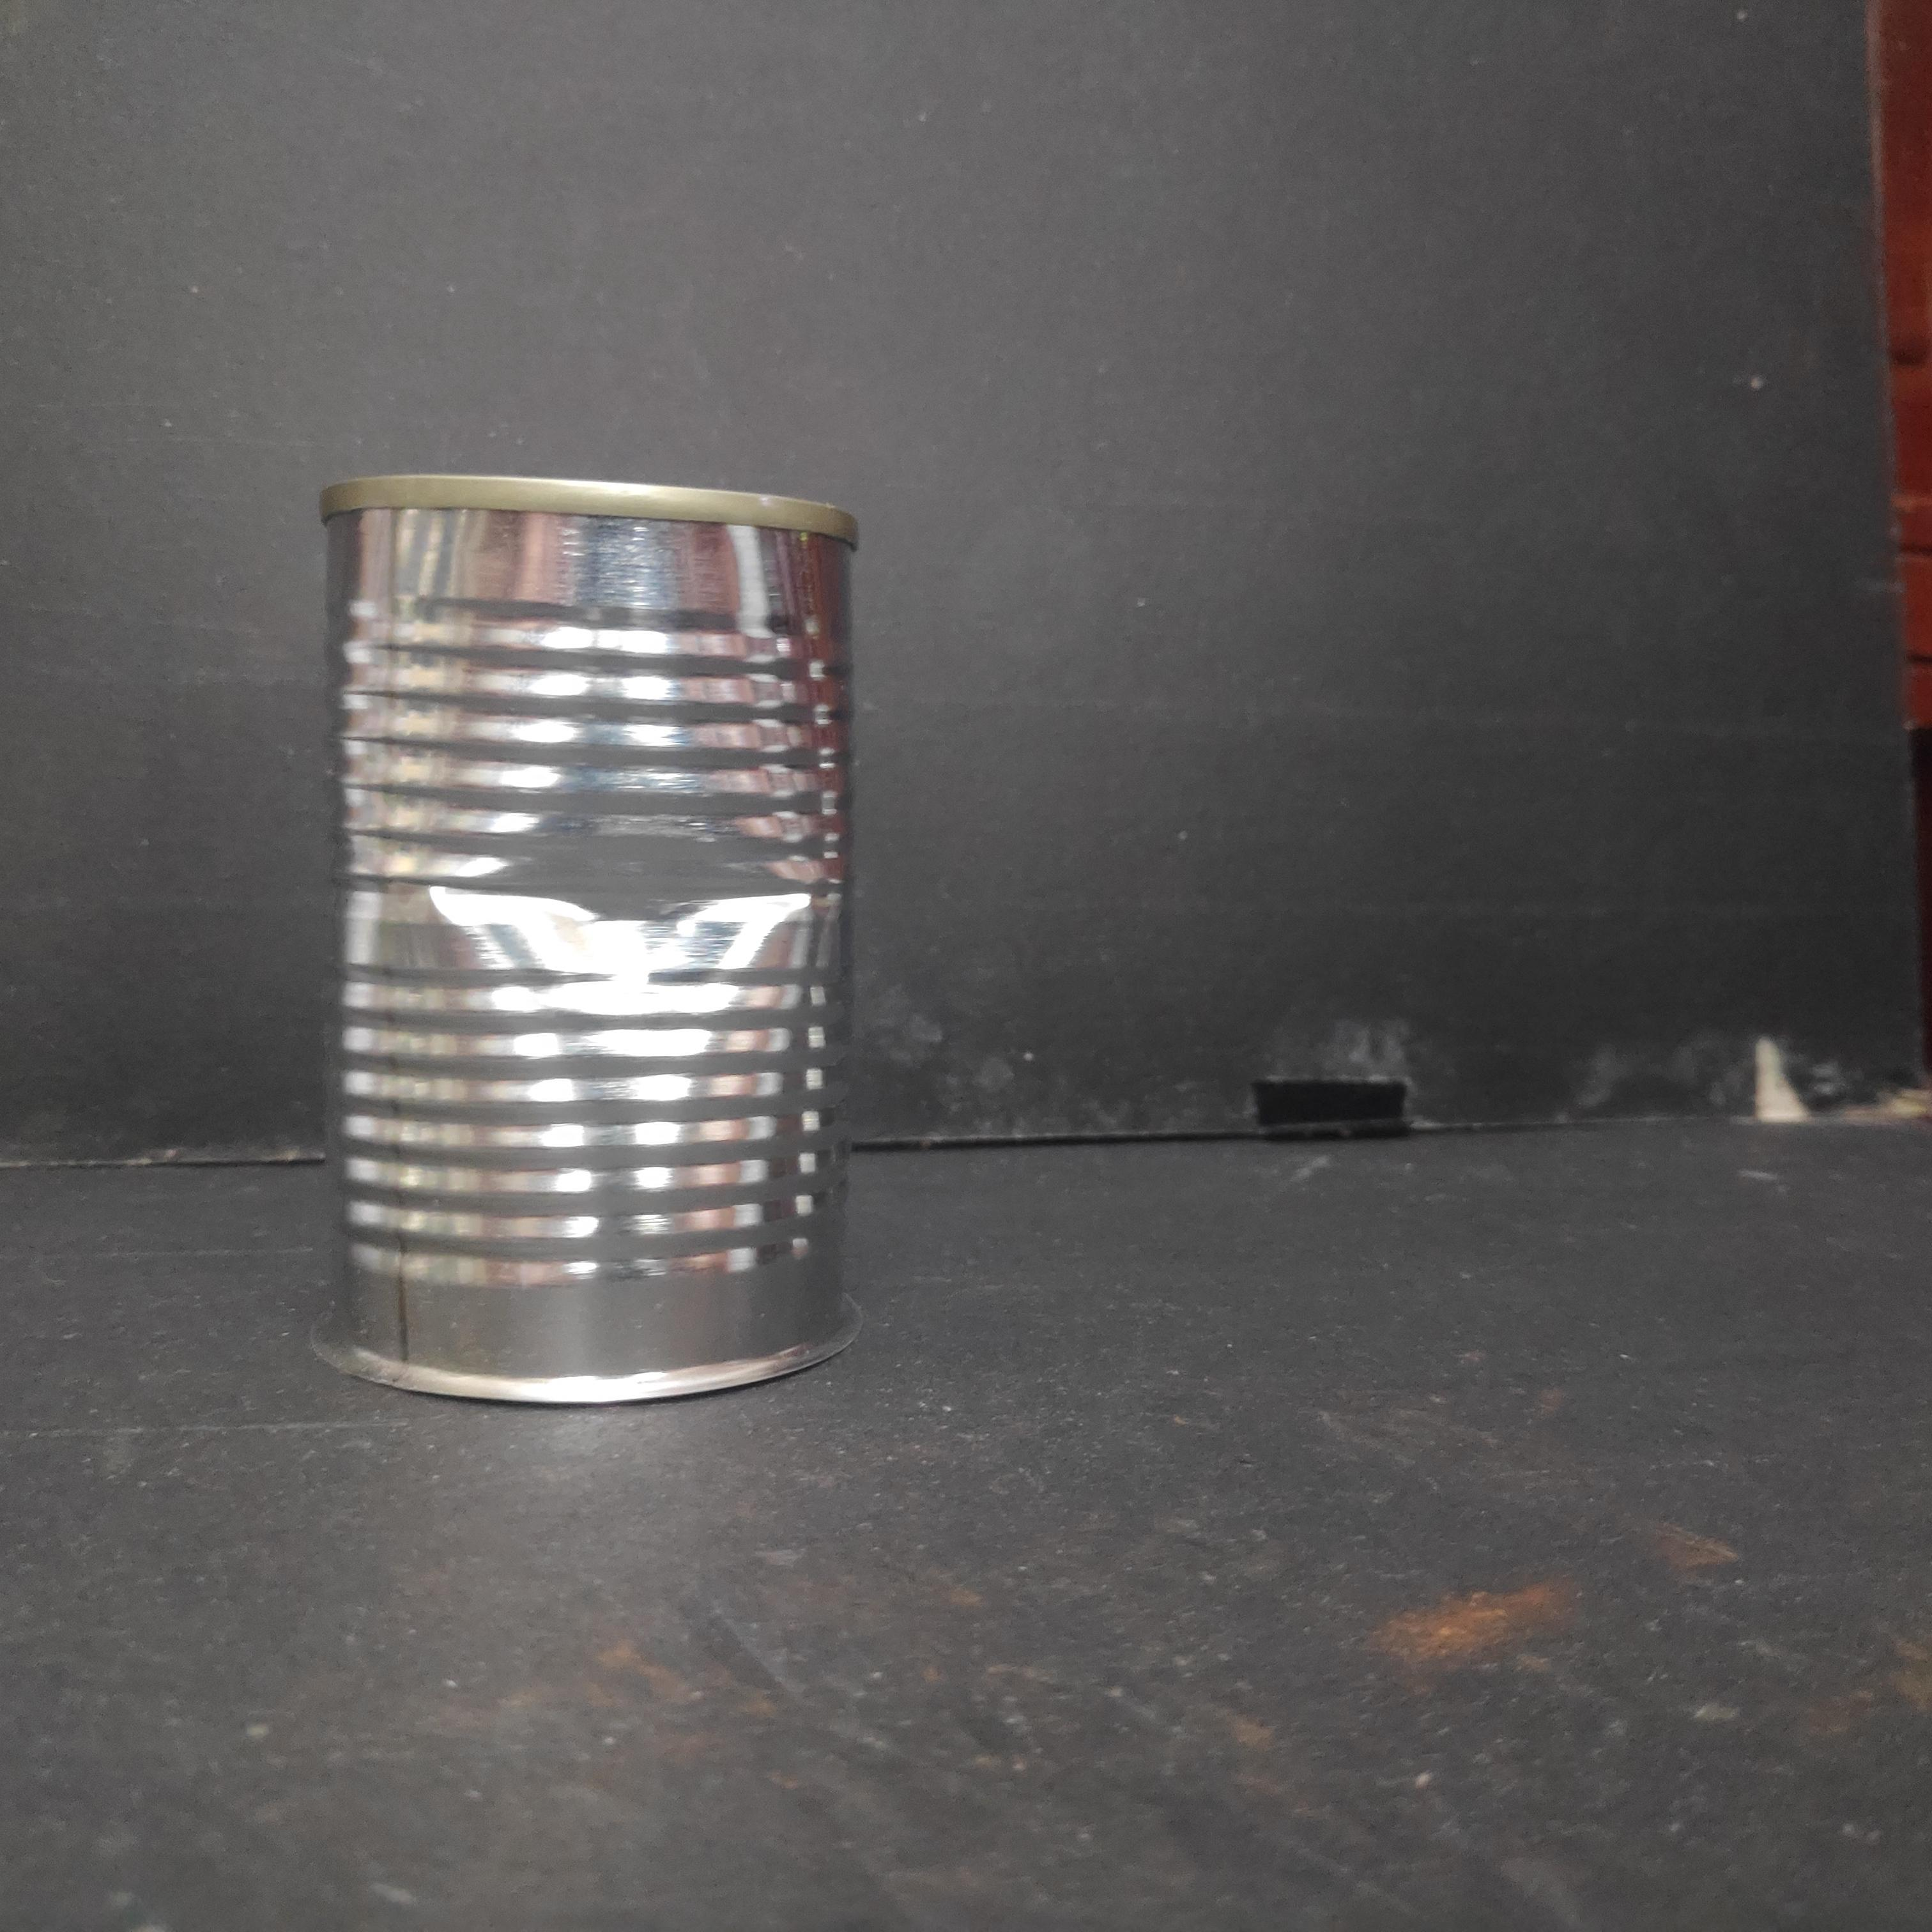Minor Defect: (308, 455, 876, 1417)
